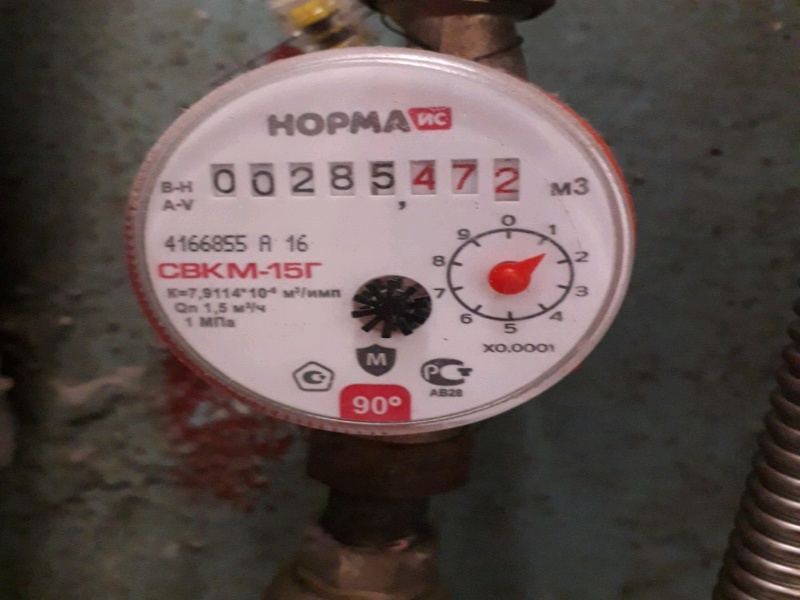dial: (197, 150, 530, 204)
